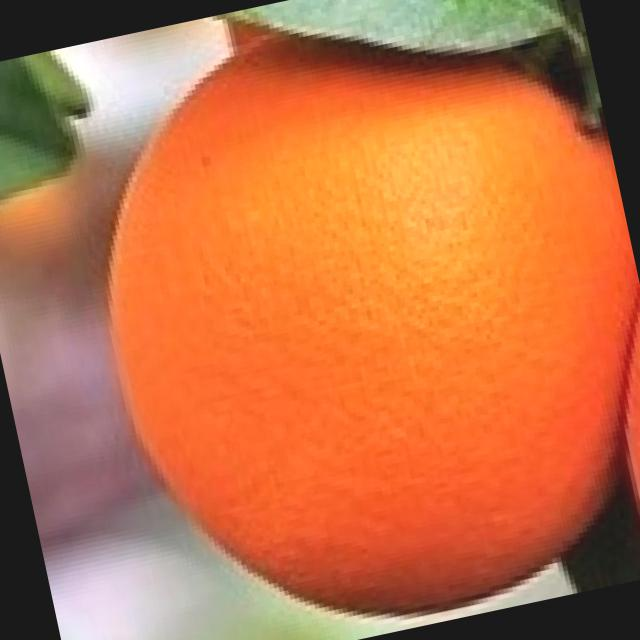Orange: (42, 3, 640, 640)
